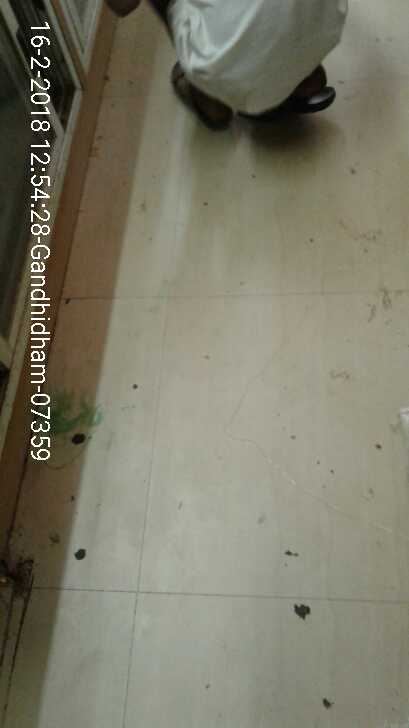reject: (209, 369, 319, 489)
